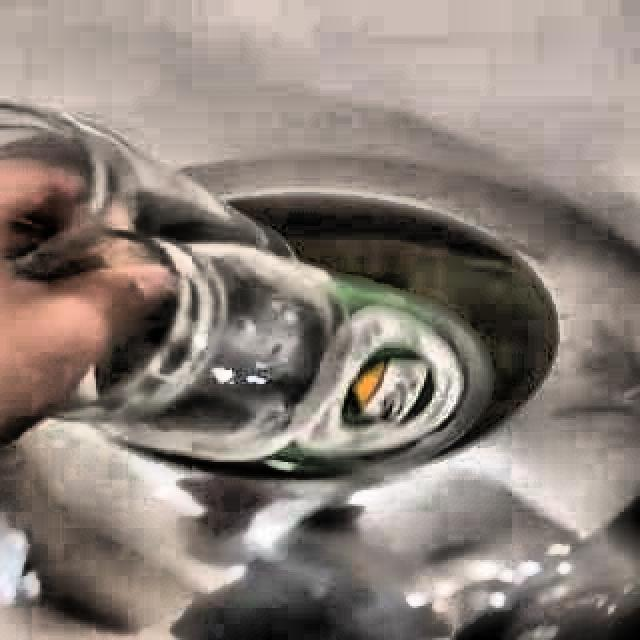glass: (0, 102, 491, 478)
